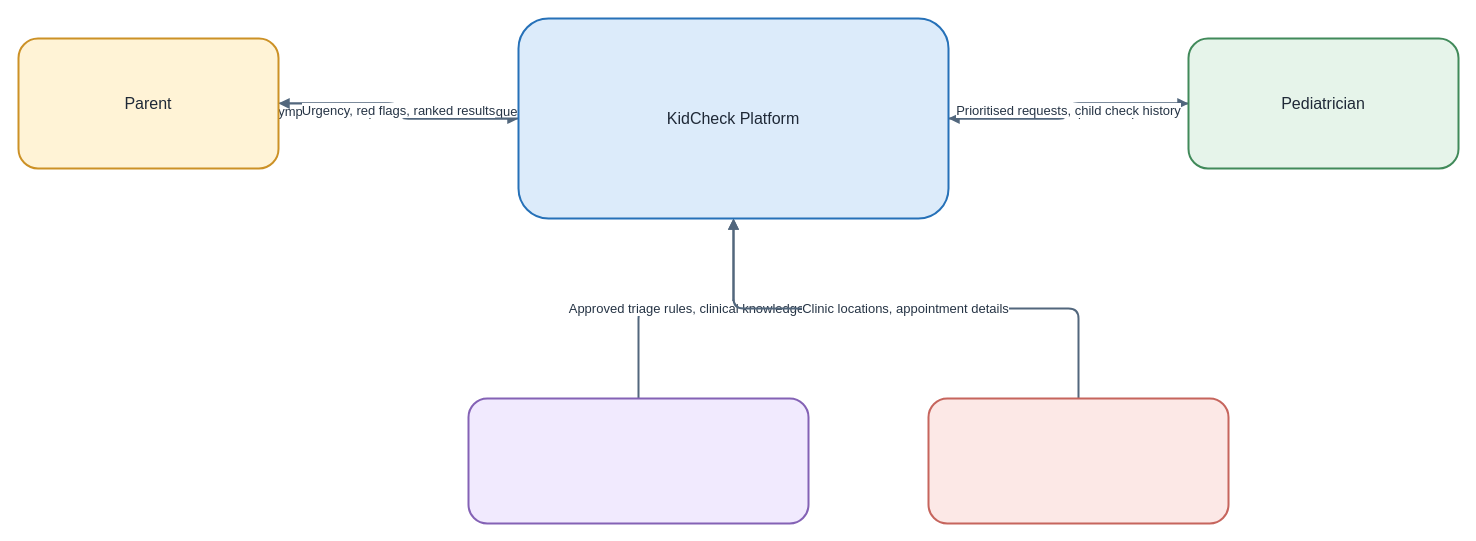
Some shapes in this 1476 by 541 pixel diagram are drawn without their labels. The shapes that lost their labels are listed below. From the top down, each one's centre as x and y in pixels, then its label:
At pixel 638 460: "Clinical protocols Ministry of Health RK".
At pixel 1078 460: "Children’s clinic directory".
